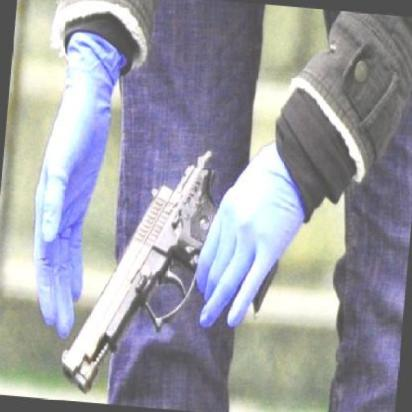Gun: (50, 138, 282, 407)
